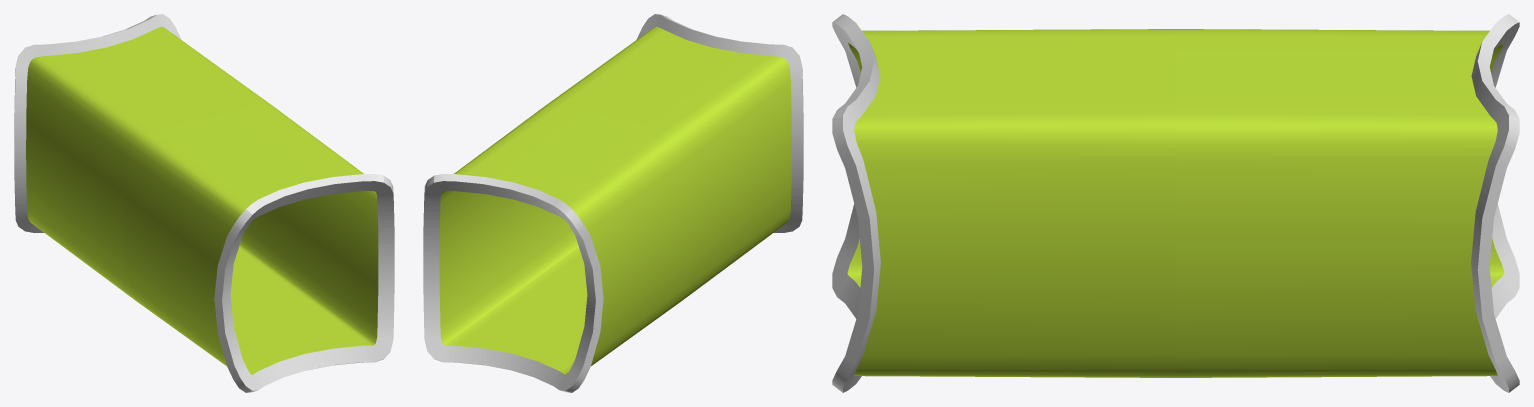
The model's file is hallway.fbx.
3 views of the same model, side by side, from view 1: azimuth 30°, elevation 25°; view 2: azimuth 150°, elevation 25°; view 3: azimuth 270°, elevation 25° (orthographic). The views are drawn at different scales.
Parts seen in each view (by area): view 1: Hallway; view 2: Hallway; view 3: Hallway.
Part boxes in pixels (<box>): Hallway: <box>14,14,394,392</box>; Hallway: <box>423,14,803,392</box>; Hallway: <box>832,14,1519,392</box>.
Size of the model in its own units: 231 by 231 by 506.
